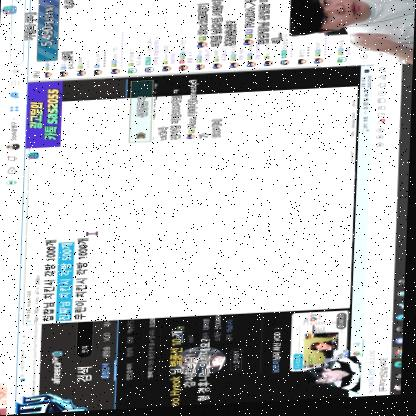donation: (168, 330, 217, 409)
streamer: (287, 0, 416, 75), (303, 359, 365, 401)
